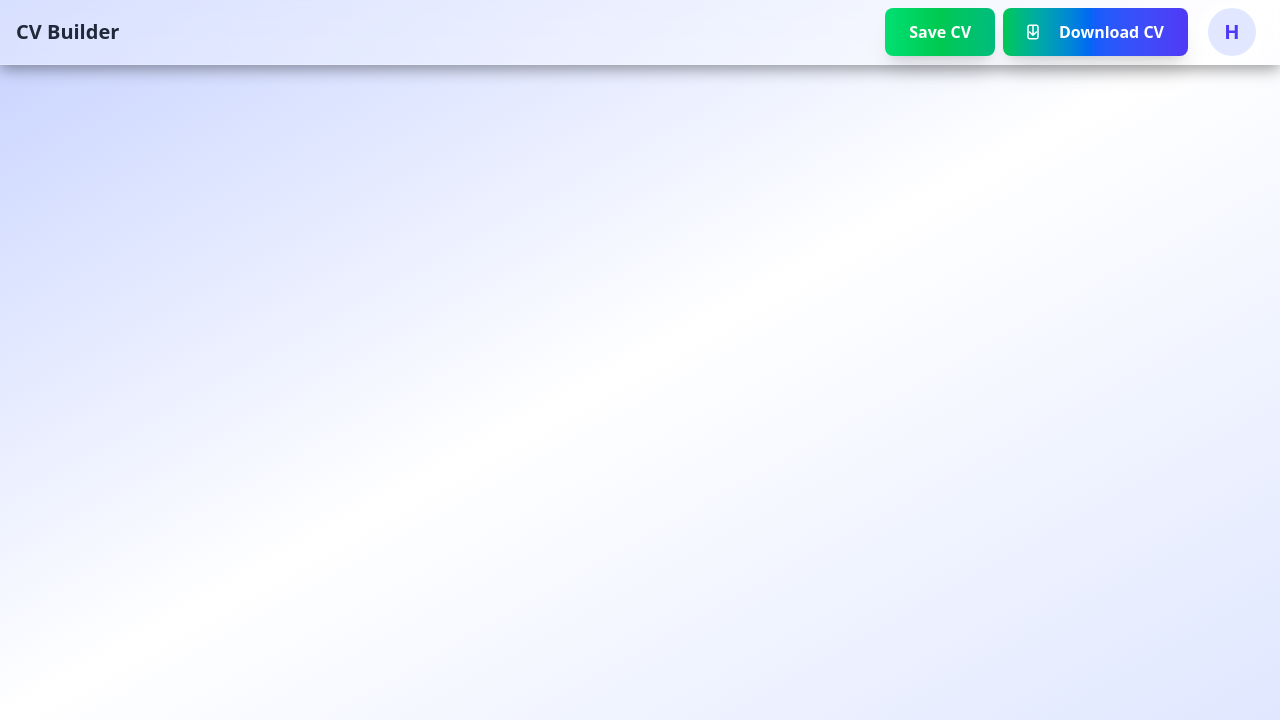
Header Component › shows and hides profile dropdown
# Click the avatar/profile button (find by initial)
Click the button "H" at x=1232, y=32, box x1=1200 y1=4 x2=1264 y2=60
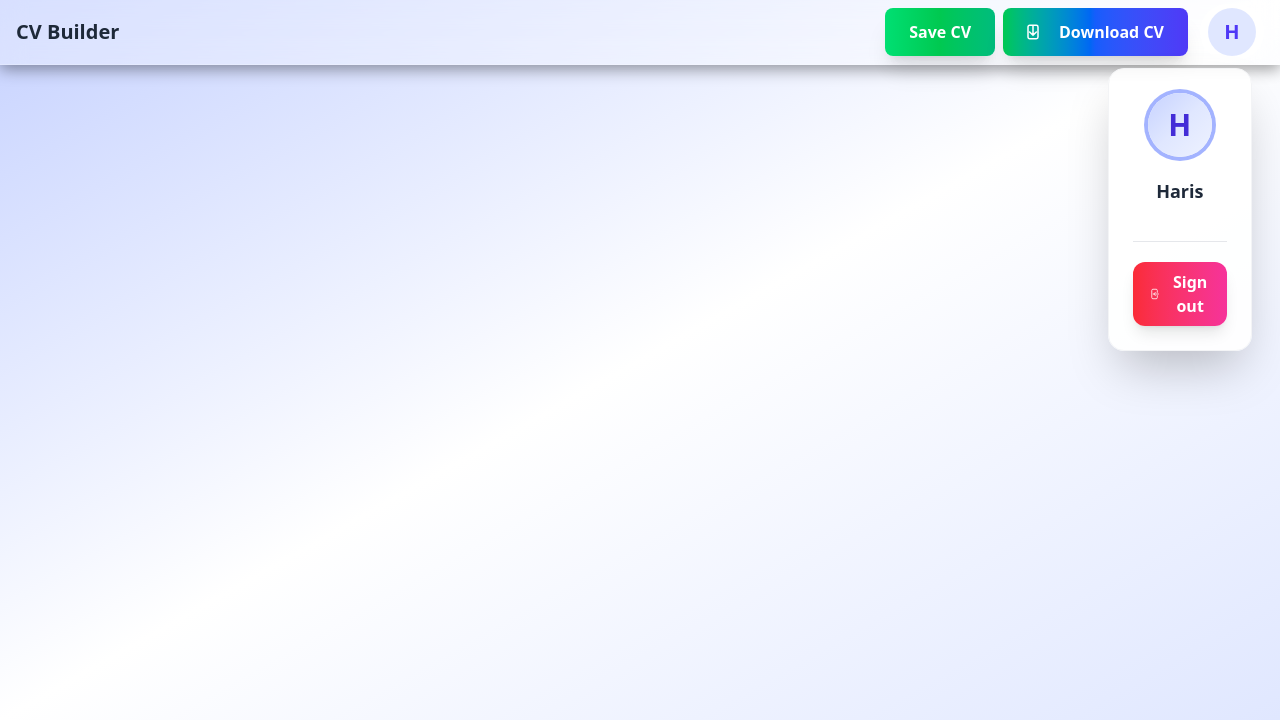
Expected: the text "Sign out" is shown, x1=1173 y1=271 x2=1207 y2=317
# Try to select the backdrop by class name since data-testid is not present
Click the element with class "z-40" at x=640, y=32, box x1=0 y1=0 x2=1279 y2=64
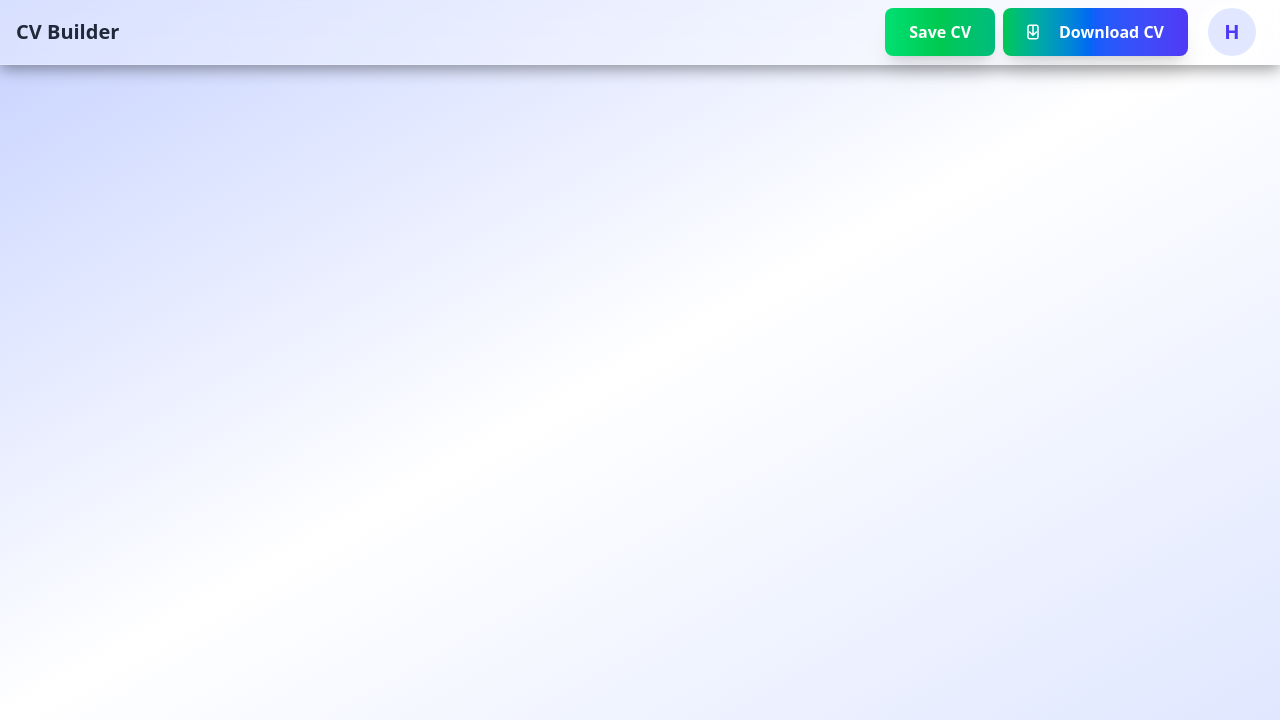
Expected: the button "Sign out" is gone
